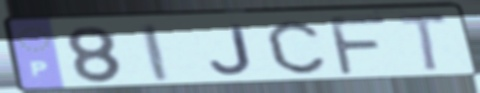8: (64, 24, 125, 85)
C: (263, 19, 329, 76)
F: (325, 14, 390, 78)
I: (137, 22, 173, 84)
J: (207, 23, 256, 77)
T: (395, 11, 453, 75)
